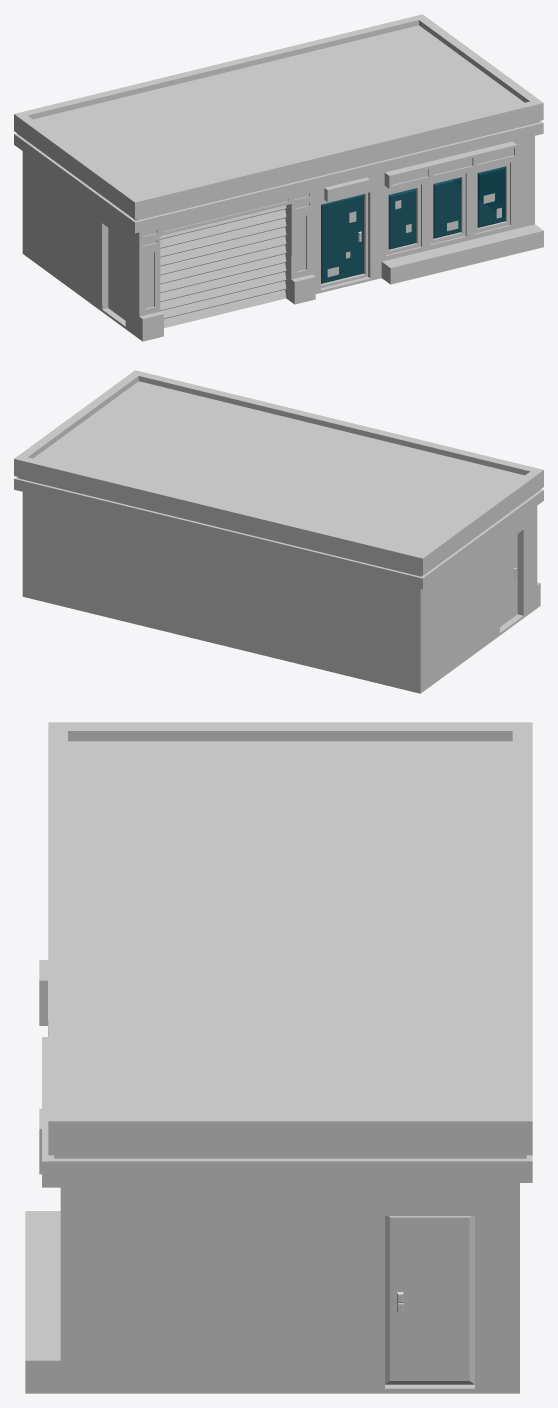
File: shop_03_small.fbx
3 renders of one model, top to bottom at view 1: azimuth 30°, elevation 25°; view 2: azimuth 150°, elevation 25°; view 3: azimuth 270°, elevation 25°, orthographic. The views are drawn at different scales.
Visible parts, largest first — view 1: shop_03_small, shop_03_small_glass; view 2: shop_03_small; view 3: shop_03_small.
Part boxes in pixels (x1=…): shop_03_small: x1=14, y1=14, x2=543, y2=341; shop_03_small_glass: x1=321, y1=166, x2=505, y2=283; shop_03_small: x1=14, y1=370, x2=543, y2=693; shop_03_small: x1=25, y1=722, x2=532, y2=1393.
Bounding box in the file's own units: 1233 × 400 × 663.
